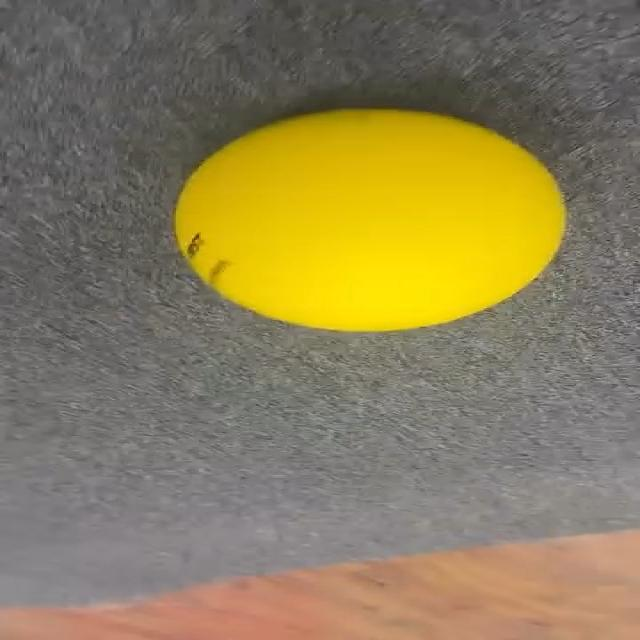Fuels: (171, 103, 567, 328)
